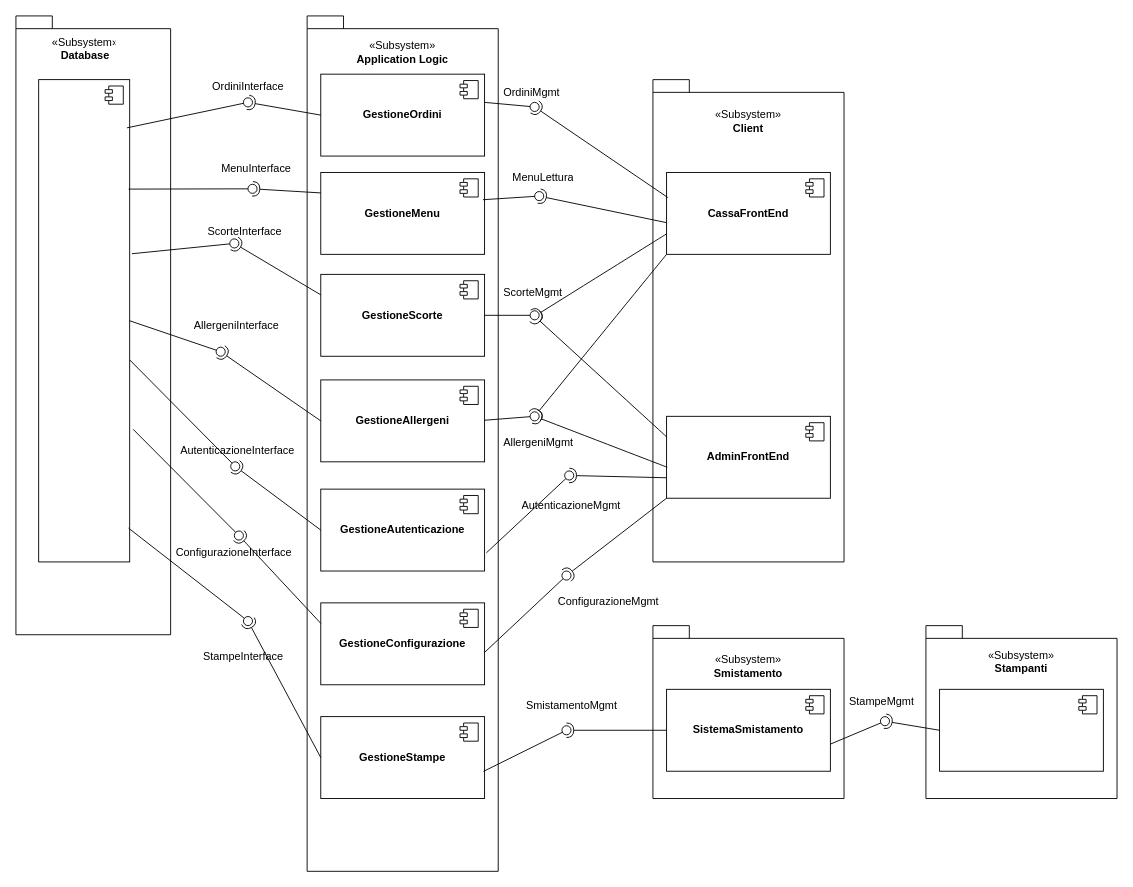
Some shapes in this 1133 by 887 pixel diagram are drawn without their labels. The box of each missing label's shape, as (x1, y1, x2, y2) in pixels:
Database: (38, 79, 130, 562)
Stampante: (939, 688, 1103, 771)
